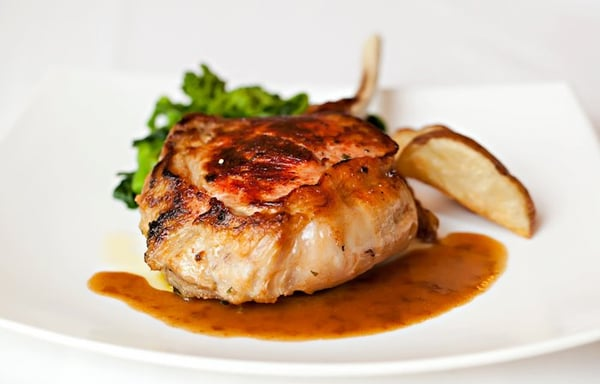soup: (133, 112, 424, 306)
